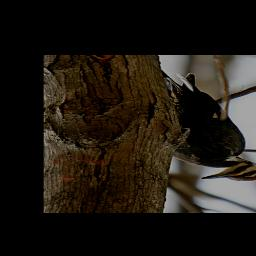Woodpecker: (159, 69, 256, 182)
